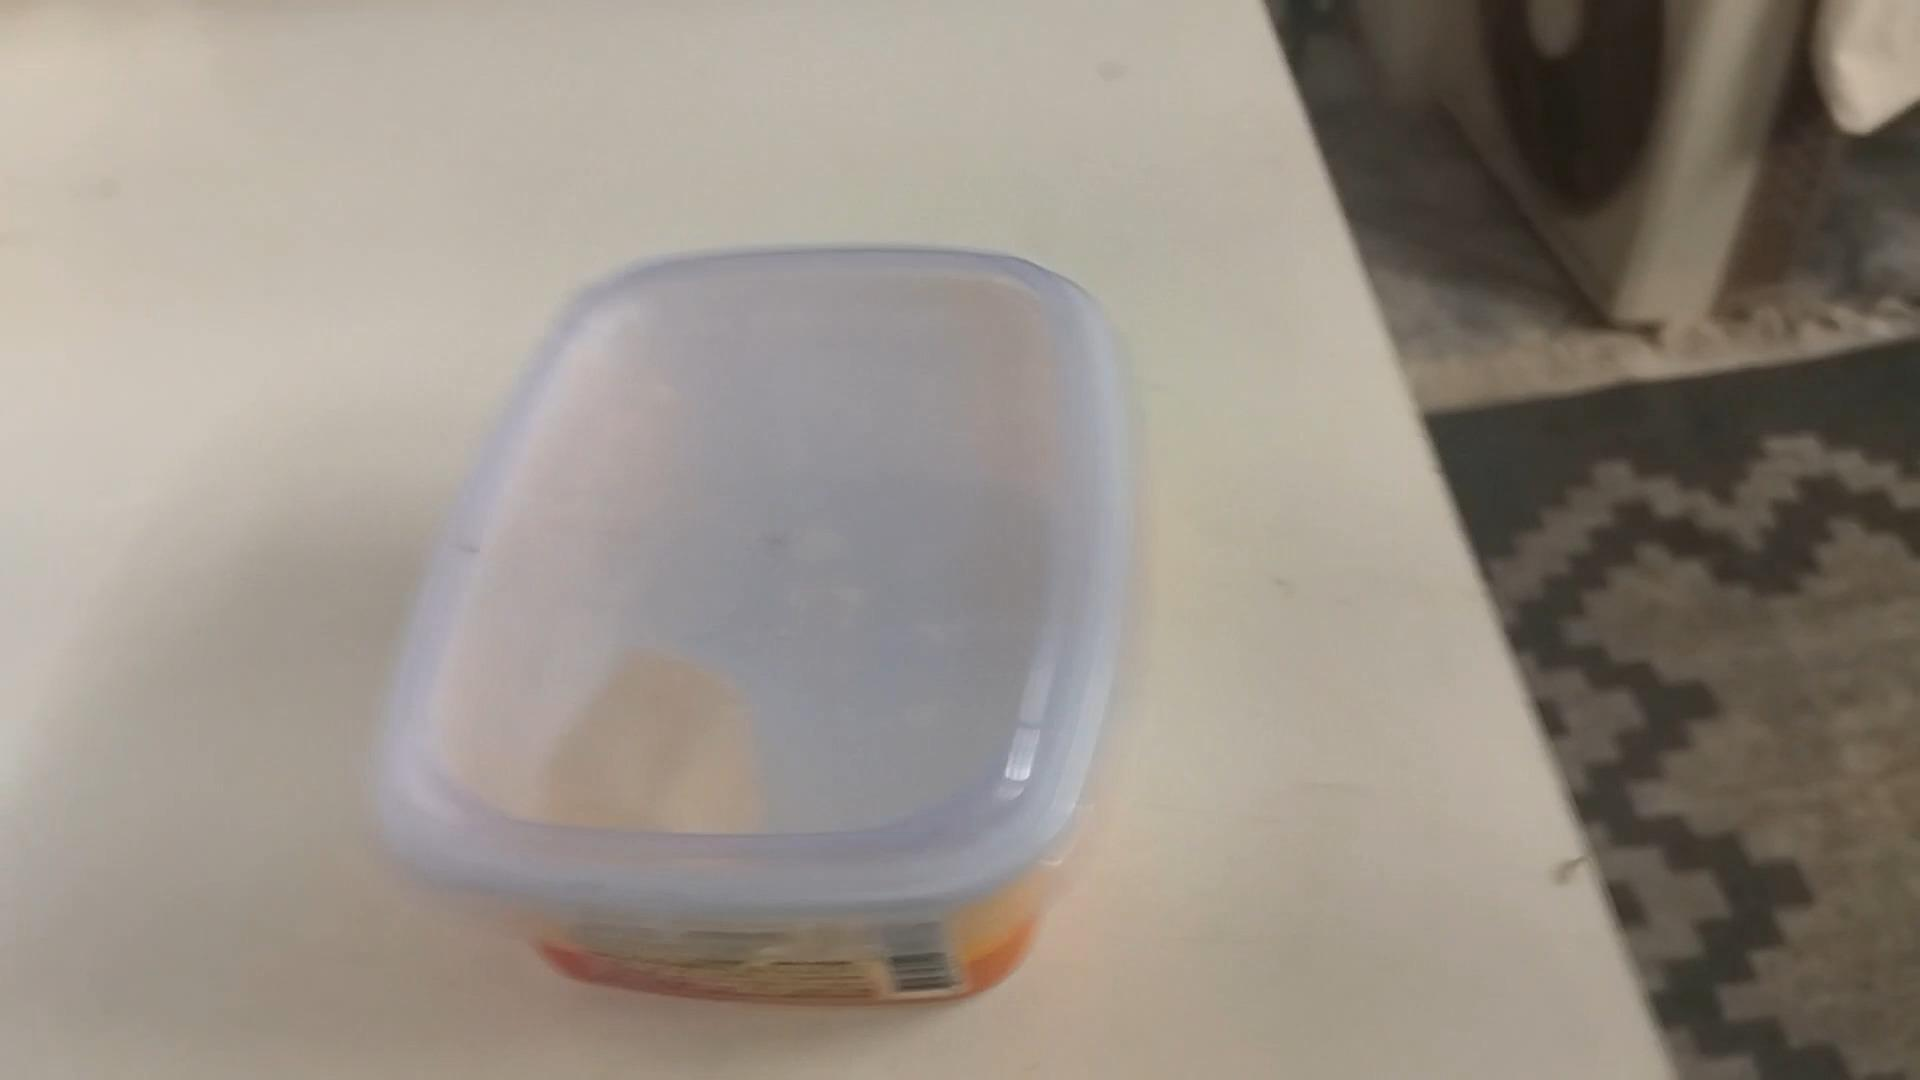butter: (369, 253, 1130, 1017)
